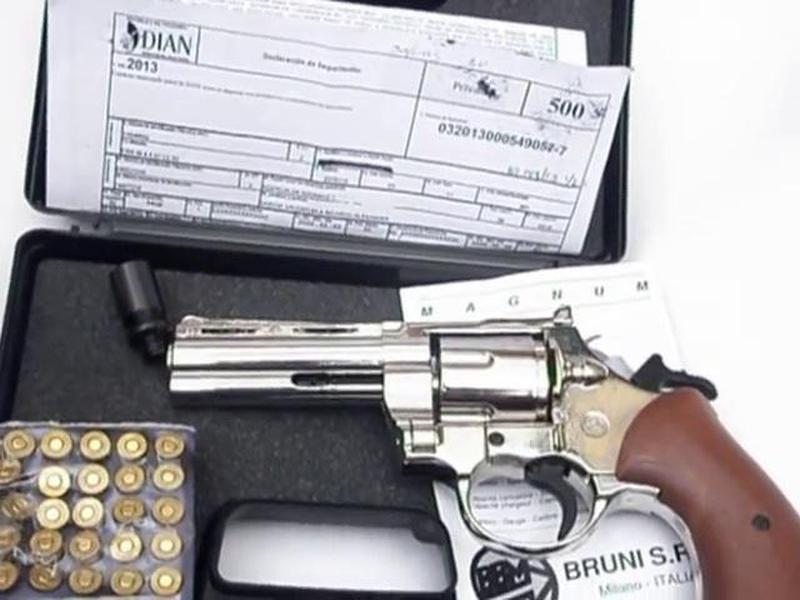Revolver: (173, 302, 800, 588)
